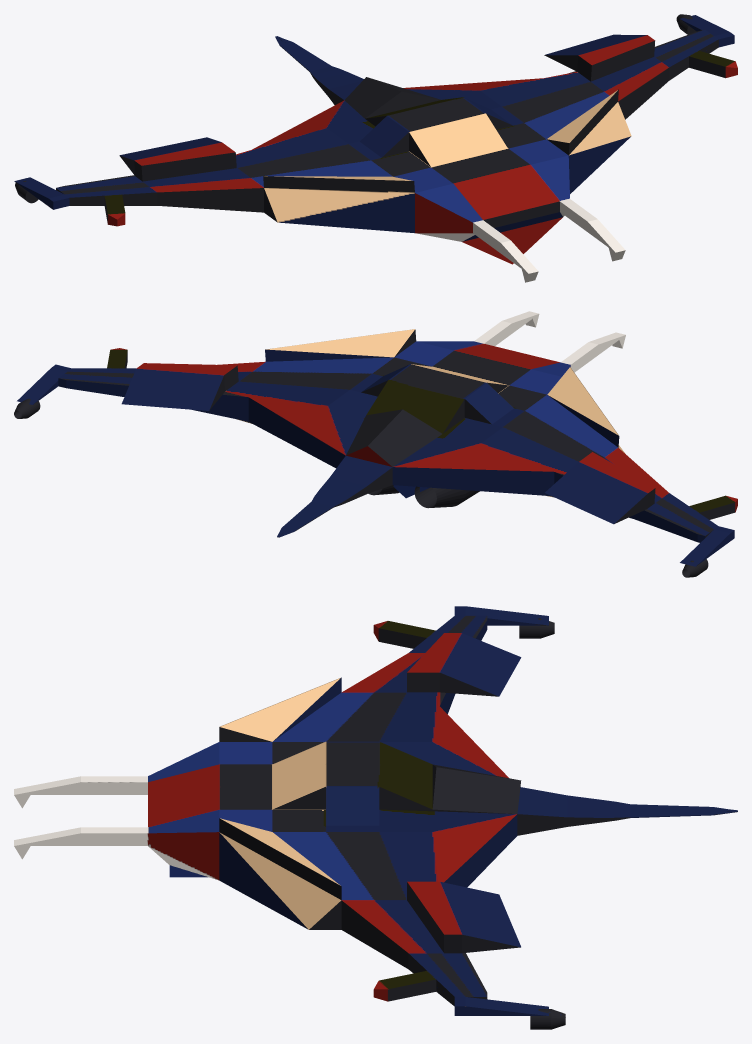
Rendered from SpaceShip#1_BlackSky.fbx.
3 views of the same model, one above another, from view 1: azimuth 30°, elevation 25°; view 2: azimuth 150°, elevation 25°; view 3: azimuth 270°, elevation 25° (orthographic). The views are drawn at different scales.
Visible parts, largest first — view 1: SpaceShip#1; view 2: SpaceShip#1; view 3: SpaceShip#1.
Part boxes in pixels (x1,y1,x2,y2): SpaceShip#1: (14,14,737,282); SpaceShip#1: (14,311,737,577); SpaceShip#1: (14,606,737,1029).
Bounding box in the file's own units: 3551 × 520 × 2713.
